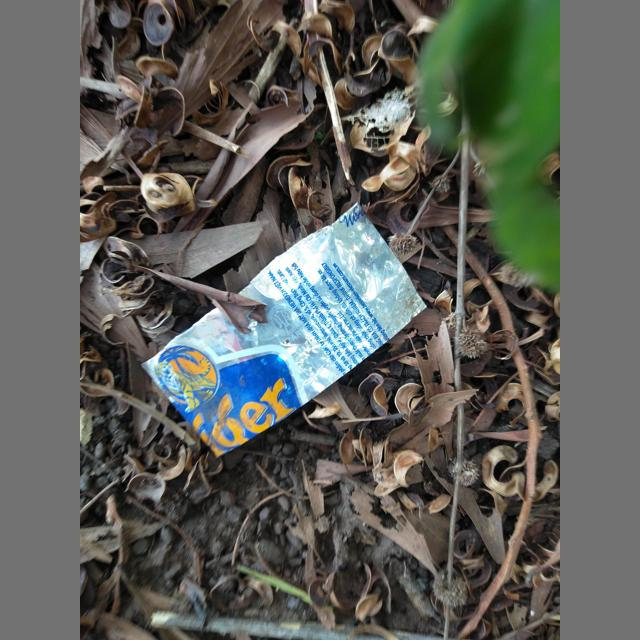litter: (140, 202, 427, 458)
